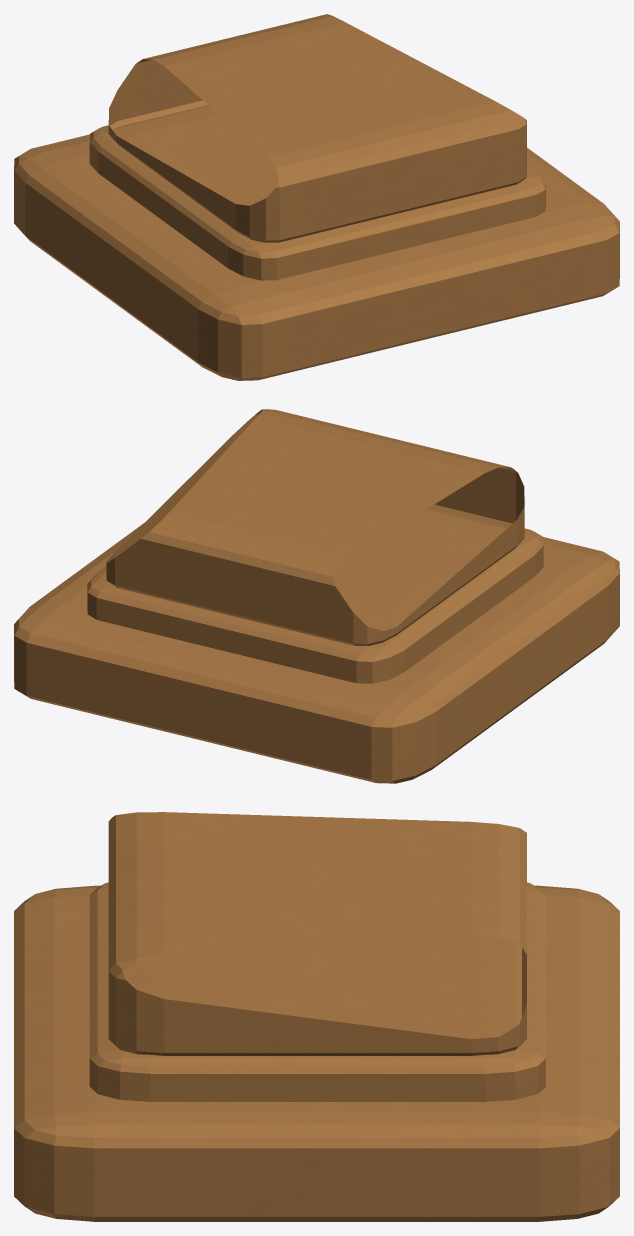
File: RondPilierHaut.glb
3 renders of one model, top to bottom at view 1: azimuth 30°, elevation 25°; view 2: azimuth 150°, elevation 25°; view 3: azimuth 270°, elevation 25°, orthographic. The views are drawn at different scales.
Parts seen in each view (by area): view 1: PlaqueBas.004; view 2: PlaqueBas.004; view 3: PlaqueBas.004.
Boxes of the visible parts, x1,y1,x2,y2 form: PlaqueBas.004: (14, 14, 619, 380); PlaqueBas.004: (14, 409, 619, 783); PlaqueBas.004: (14, 812, 619, 1221).
Bounding box in the file's own units: 18.9 × 7.64 × 18.78.
1 material, 1 textured.
